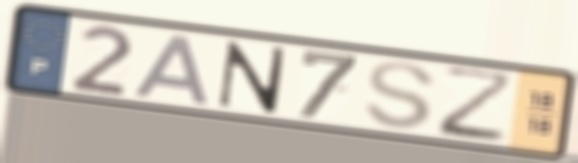2: (70, 22, 138, 99)
7: (294, 48, 361, 121)
A: (130, 32, 216, 109)
N: (213, 38, 291, 116)
S: (361, 58, 440, 132)
Z: (437, 64, 517, 146)
